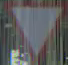Give way: (3, 3, 65, 56)
